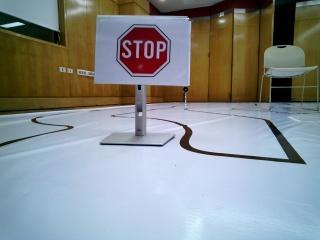stop: (113, 15, 181, 81)
